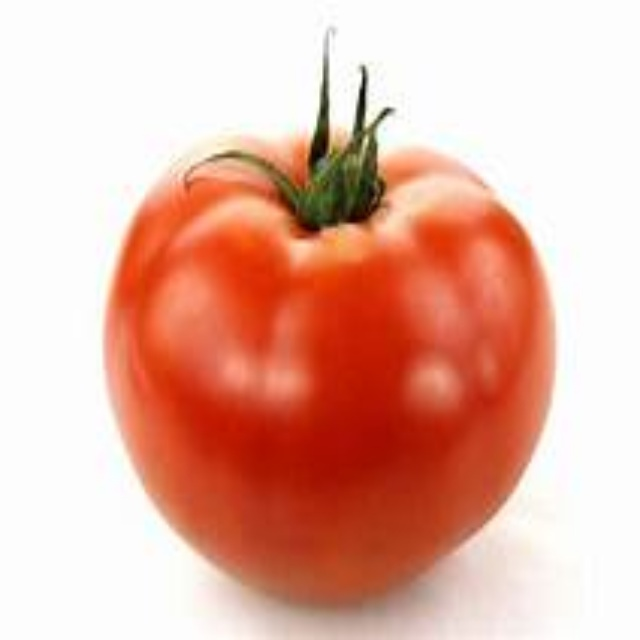tomato: (104, 118, 573, 606)
